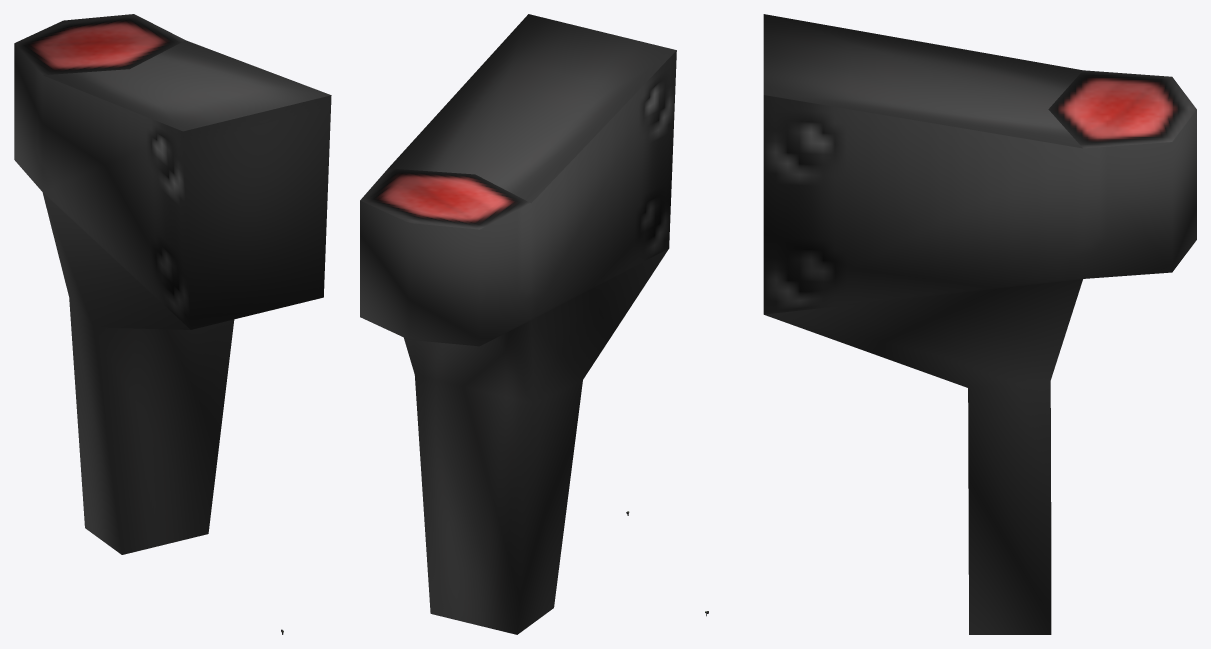
The model's file is Handgun02_RedDot3.fbx.
3 views of the same model, side by side, from view 1: azimuth 30°, elevation 25°; view 2: azimuth 150°, elevation 25°; view 3: azimuth 270°, elevation 25° (orthographic). The views are drawn at different scales.
Visible parts, largest first — view 1: Handgun_RedDot.X_.0002; view 2: Handgun_RedDot.X_.0002; view 3: Handgun_RedDot.X_.0002.
Part boxes in pixels (left/top/right/bottom): Handgun_RedDot.X_.0002: left=14, top=14, right=331, bottom=554; Handgun_RedDot.X_.0002: left=360, top=14, right=676, bottom=634; Handgun_RedDot.X_.0002: left=763, top=14, right=1196, bottom=634.
Size of the model in its own units: 3.08 by 9.97 by 7.91.
